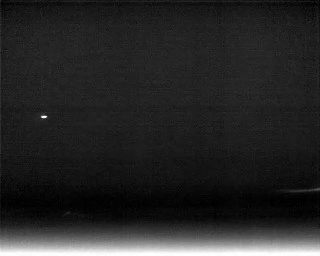AIRPLANE: (39, 113, 49, 121)
